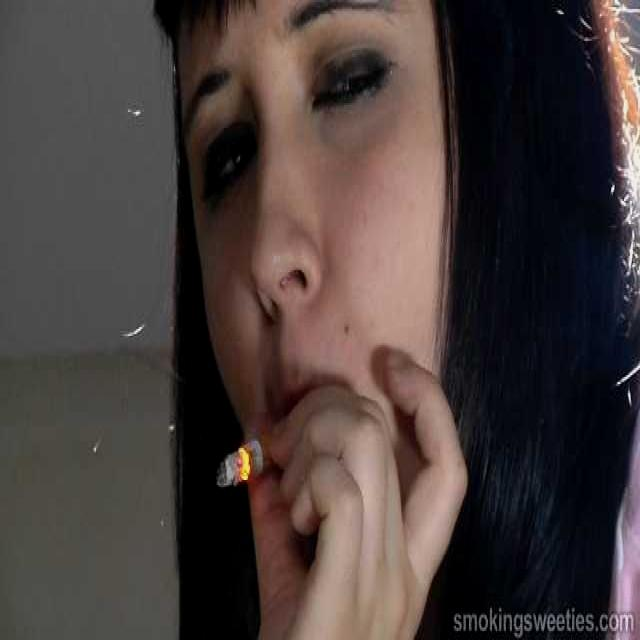Smooking: (203, 422, 281, 506)
